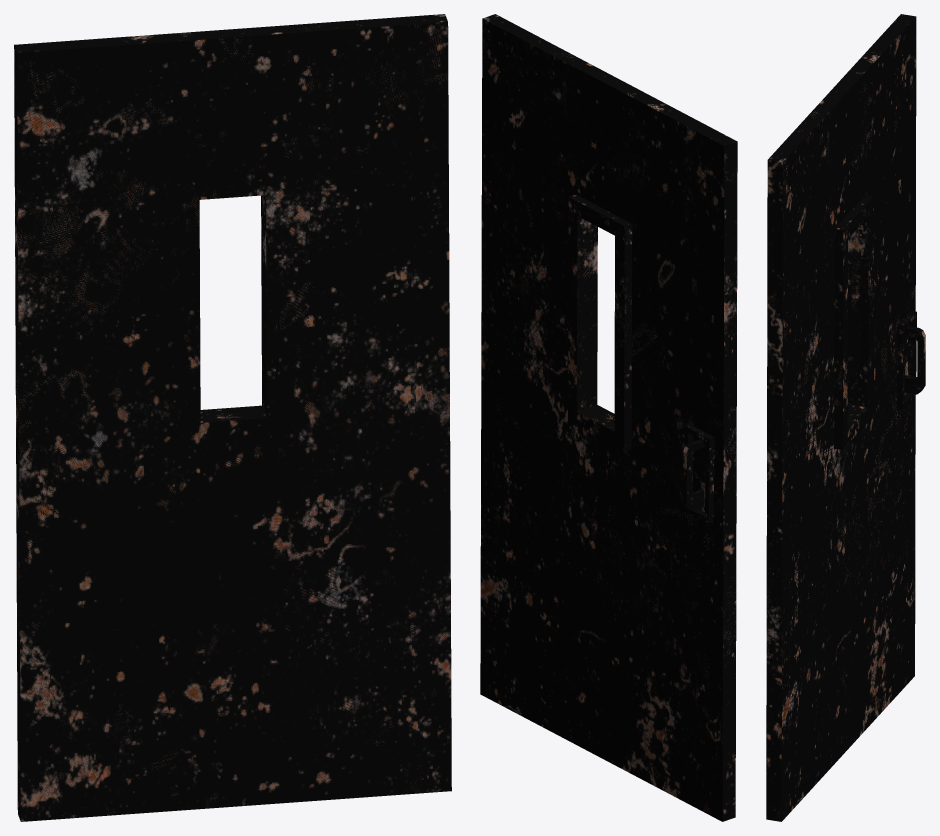
Rendered from NewDoorSingle.fbx.
3 renders of one model, left to right at view 1: azimuth 30°, elevation 25°; view 2: azimuth 150°, elevation 25°; view 3: azimuth 270°, elevation 25°, orthographic. The views are drawn at different scales.
Parts seen in each view (by area): view 1: SingleDoor; view 2: SingleDoor; view 3: SingleDoor.
Part boxes in pixels (x1,y1,x2,y2): SingleDoor: (14, 14, 451, 821); SingleDoor: (480, 14, 737, 821); SingleDoor: (766, 14, 925, 821).
Bounding box in the file's own units: 287 × 585 × 128.
